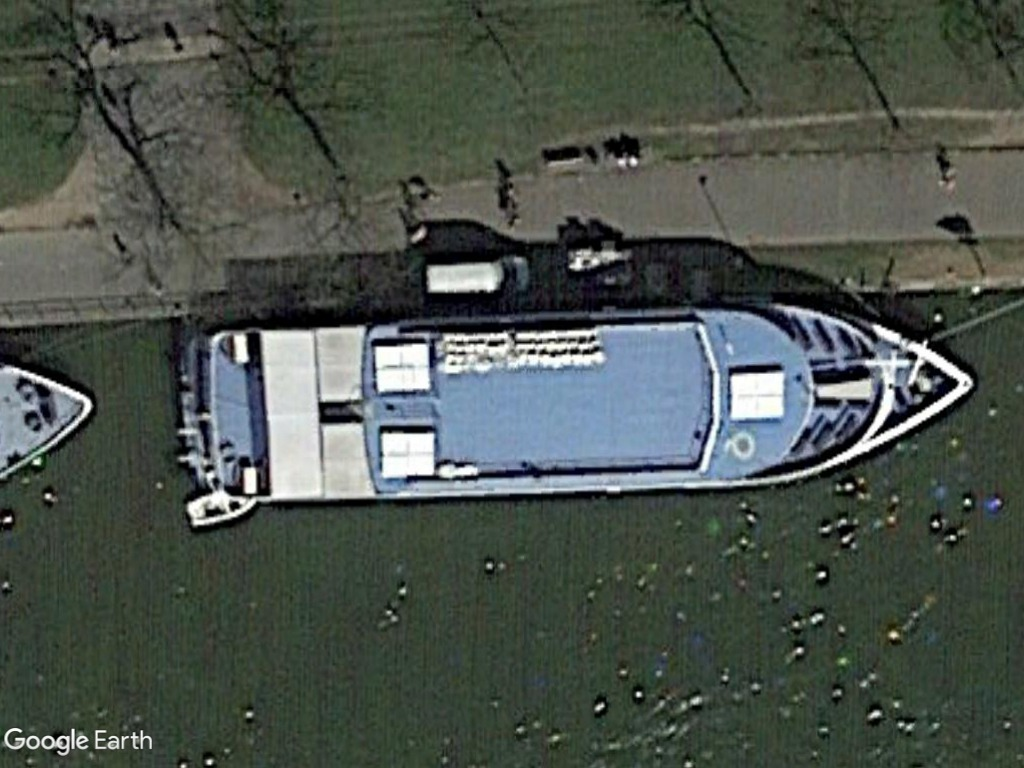boat: (181, 302, 989, 512)
van: (414, 251, 535, 304)
